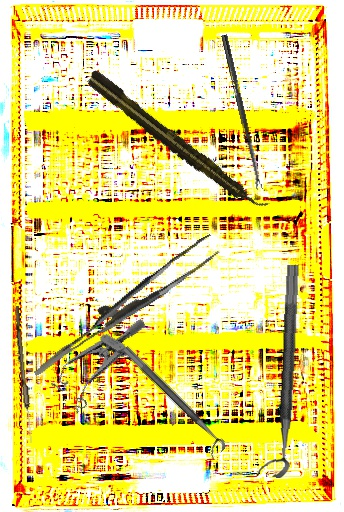Fixation Ring: (113, 344, 229, 461), (256, 263, 301, 479)
Handpiece: (82, 66, 271, 220)
Speculum: (44, 296, 148, 421)
Surgical Spoon: (220, 34, 263, 191), (11, 306, 36, 443)
Tissue Forceps: (15, 233, 231, 377)
